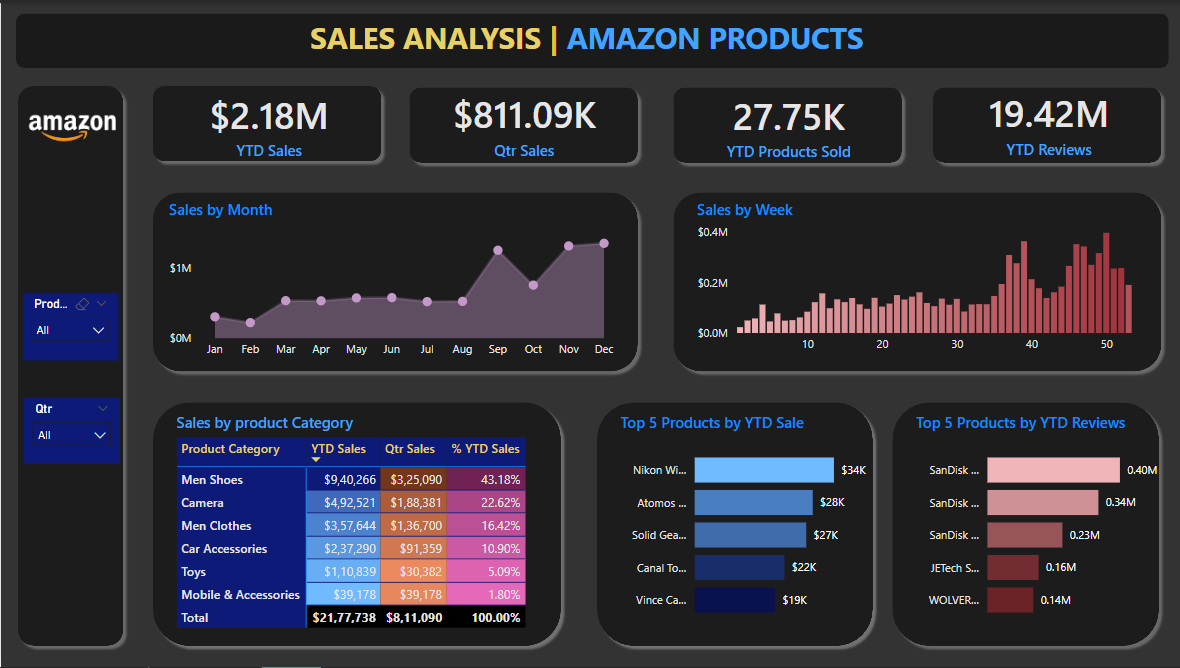

What the dashboard file says about the page in this screenshot:
{"tool":"powerbi","page":{"name":"Page 1","canvas":[1280,720],"ordinal":0},"visuals":[{"type":"shape","box":[435.9,84.6,261.9,96],"z":0},{"type":"shape","box":[158.3,198.3,540,208.3],"z":1000},{"type":"shape","box":[15.8,10.8,1250,59.2],"z":2000},{"type":"areaChart","title":"Sales by Month","fields":{"Category":["Date Table.Month name"],"Y":["Sum(Amazon_Data.Price(Dollar))"]},"box":[176.7,213.3,496.7,180],"z":3000},{"type":"textbox","box":[330,10,623.3,60],"z":4000},{"type":"shape","box":[721.7,198.3,543.3,208.3],"z":5000},{"type":"shape","box":[11.4,83,128.5,621.3],"z":6000},{"type":"columnChart","title":"Sales by Week","fields":{"Category":["Date Table.Week"],"Y":["Sum(Amazon_Data.Price(Dollar))"]},"box":[750,213.3,501.1,174.4],"z":7000},{"type":"shape","box":[157.8,83,261.9,96],"z":8000},{"type":"card","fields":{"Values":["Amazon_Data.Qtr Sales"]},"box":[460,86.7,213.3,88.3],"z":9000},{"type":"card","fields":{"Values":["Amazon_Data.YTD Sales"]},"box":[188.7,87.8,203.3,86.2],"z":10000},{"type":"shape","box":[1003.6,84.6,261.9,96],"z":11000},{"type":"shape","box":[722.2,84.6,261.9,96],"z":12000},{"type":"card","fields":{"Values":["Amazon_Data.YTD Products Sold"]},"box":[748.2,89.5,211.5,84.6],"z":13000},{"type":"card","fields":{"Values":["Amazon_Data.YTD Reviews"]},"box":[1021.5,86.2,229.3,86.2],"z":14000},{"type":"shape","box":[158.3,426.7,456.7,278.3],"z":15000},{"type":"pivotTable","title":"Sales by product Category","fields":{"Rows":["Amazon_Data.Product Category"],"Values":["Amazon_Data.YTD Sales1","Amazon_Data.Qtr Sales","Amazon_Data.YTD Sales"]},"box":[185.6,443.3,403.3,253.3],"z":16000},{"type":"shape","box":[640,426.7,313.3,278.3],"z":17000},{"type":"shape","box":[960,426.7,303.3,278.3],"z":18000},{"type":"barChart","title":"Top 5 Products by YTD Sale","fields":{"Y":["Amazon_Data.YTD Sales"],"Category":["Amazon_Data.Product Description"]},"box":[666.7,443.3,286.7,236.7],"z":19000},{"type":"barChart","title":"Top 5 Products by YTD Reviews","fields":{"Category":["Amazon_Data.Product Description"],"Y":["Amazon_Data.YTD Reviews"]},"box":[986.7,443.3,276.7,236.7],"z":20000},{"type":"slicer","fields":{"Values":["Amazon_Data.Product Category"]},"box":[22.7,313.6,104.5,74.5],"z":21000},{"type":"slicer","fields":{"Values":["Date Table.Qtr"]},"box":[23.6,428.2,104.5,71.8],"z":22000},{"type":"image","box":[13,83,128.5,105.7],"z":23000}]}

Visuals, with their boxes in screenshot pixels (x1, y1, x2, y2), scaled from the page's 1280x720 canvas onto the 1180x668 screenshot:
shape: 402,78,643,168
shape: 146,184,644,377
shape: 15,10,1167,65
"Sales by Month" areaChart: 163,198,621,365
textbox: 304,9,879,65
shape: 665,184,1166,377
shape: 11,77,129,653
"Sales by Week" columnChart: 691,198,1153,360
shape: 145,77,387,166
card - Amazon_Data.Qtr Sales: 424,80,621,162
card - Amazon_Data.YTD Sales: 174,81,361,161
shape: 925,78,1167,168
shape: 666,78,907,168
card - Amazon_Data.YTD Products Sold: 690,83,885,162
card - Amazon_Data.YTD Reviews: 942,80,1153,160
shape: 146,396,567,654
"Sales by product Category" pivotTable: 171,411,543,646
shape: 590,396,879,654
shape: 885,396,1165,654
"Top 5 Products by YTD Sale" barChart: 615,411,879,631
"Top 5 Products by YTD Reviews" barChart: 910,411,1165,631
slicer - Amazon_Data.Product Category: 21,291,117,360
slicer - Date Table.Qtr: 22,397,118,464
image: 12,77,130,175
